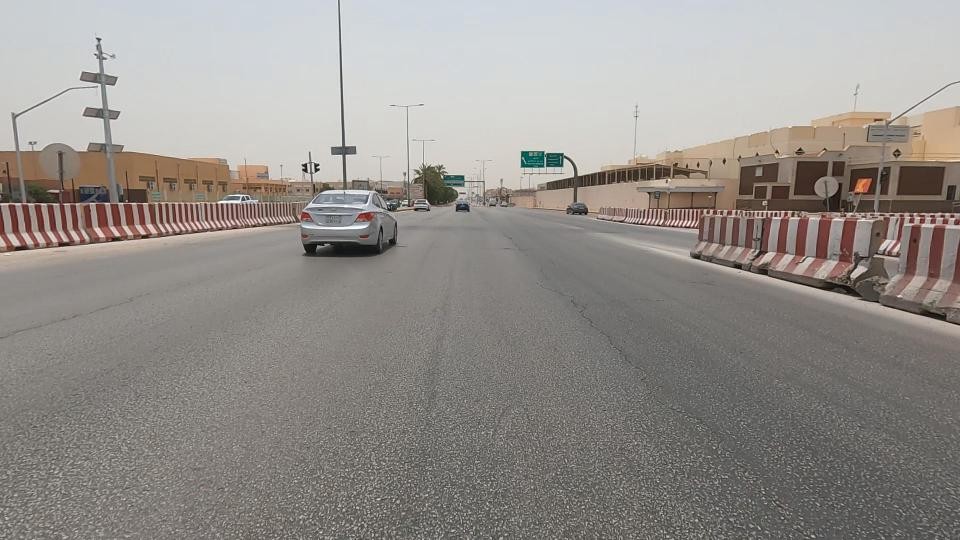CONSTRUCTION_ROAD: (653, 182, 960, 327), (91, 187, 252, 249), (42, 198, 155, 257)
